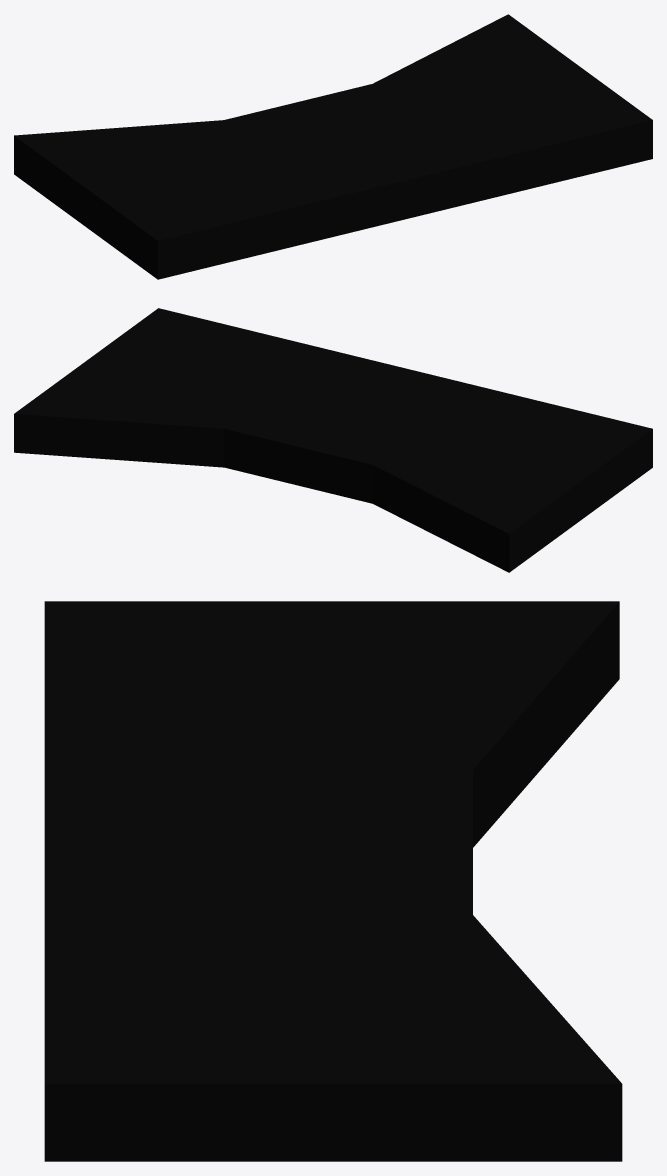
File: 2ndFloor.obj
3 renders of one model, top to bottom at view 1: azimuth 30°, elevation 25°; view 2: azimuth 150°, elevation 25°; view 3: azimuth 270°, elevation 25°, orthographic. The views are drawn at different scales.
Visible parts, largest first — view 1: 2ndFloor; view 2: 2ndFloor; view 3: 2ndFloor.
Boxes of the visible parts, box(x1,y1,x2,y2) form: 2ndFloor: box(14, 14, 652, 279); 2ndFloor: box(14, 308, 652, 572); 2ndFloor: box(44, 601, 622, 1161).
Size of the model in its own units: 39.97 by 3 by 20.23.
